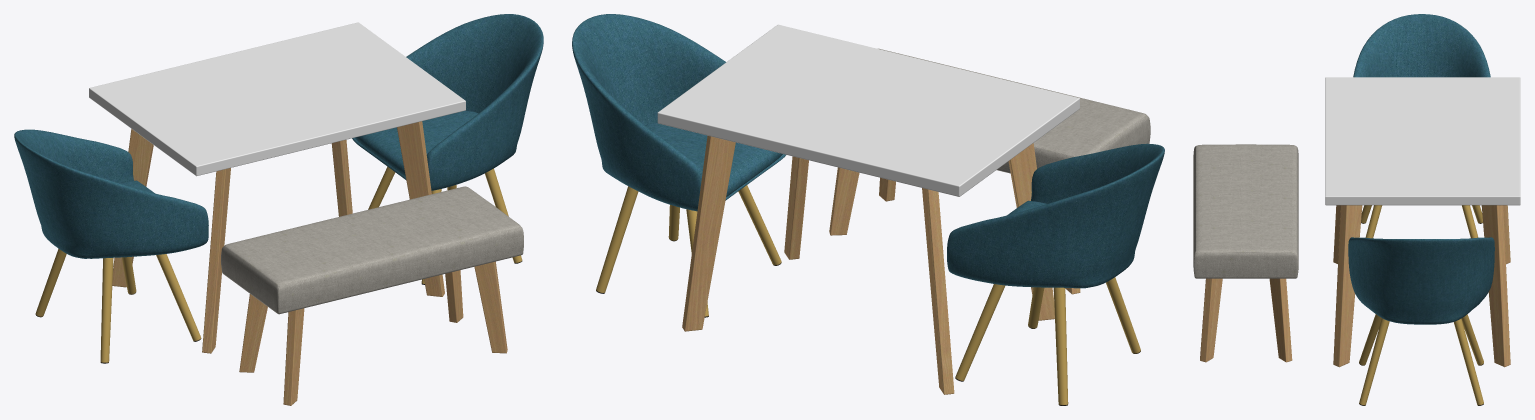
The model's file is armchair.glb.
3 renders of one model, left to right at view 1: azimuth 30°, elevation 25°; view 2: azimuth 150°, elevation 25°; view 3: azimuth 270°, elevation 25°, orthographic. The views are drawn at different scales.
Parts seen in each view (by area): view 1: Object002.001, Object002.002, Object002.007, Object002.008; view 2: Object002.001, Object002.002, Object002.007, Object002.008; view 3: Object002.001, Object002.002, Object002.007, Object002.008.
Boxes of the visible parts, x1=… form: Object002.001: x1=35, y1=22, x2=507, y2=405; Object002.002: x1=14, y1=129, x2=523, y2=314; Object002.007: x1=352, y1=14, x2=543, y2=190; Object002.008: x1=368, y1=166, x2=522, y2=284; Object002.001: x1=657, y1=24, x2=1140, y2=405; Object002.002: x1=878, y1=48, x2=1164, y2=288; Object002.007: x1=572, y1=14, x2=785, y2=211; Object002.008: x1=596, y1=185, x2=781, y2=317; Object002.001: x1=1200, y1=77, x2=1520, y2=367; Object002.002: x1=1193, y1=14, x2=1490, y2=278; Object002.007: x1=1348, y1=237, x2=1494, y2=324; Object002.008: x1=1359, y1=314, x2=1483, y2=405.
Bounding box in the file's own units: 2.08 × 0.805 × 1.27.
2 materials, 2 textured.
